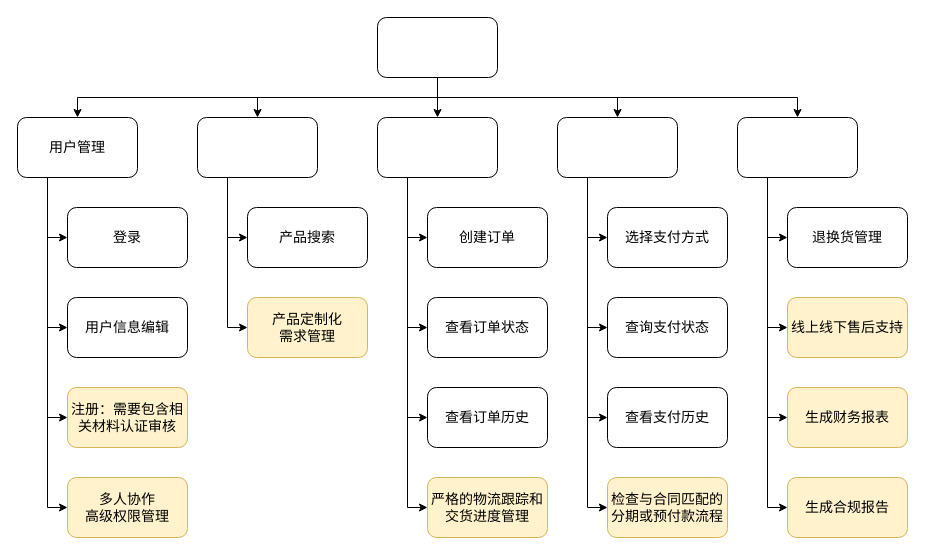
Some shapes in this 925 by 555 pixel diagram are drawn without their labels. The shapes that lost their labels are listed below. From the top down, each one's box as (x1, y1, x2, y2) in pixels, then its label:
(376, 16, 498, 78): 集团客户
(196, 116, 318, 178): 产品管理
(376, 116, 498, 178): 订单管理
(556, 116, 678, 178): 支付管理
(736, 116, 858, 178): 售后服务
